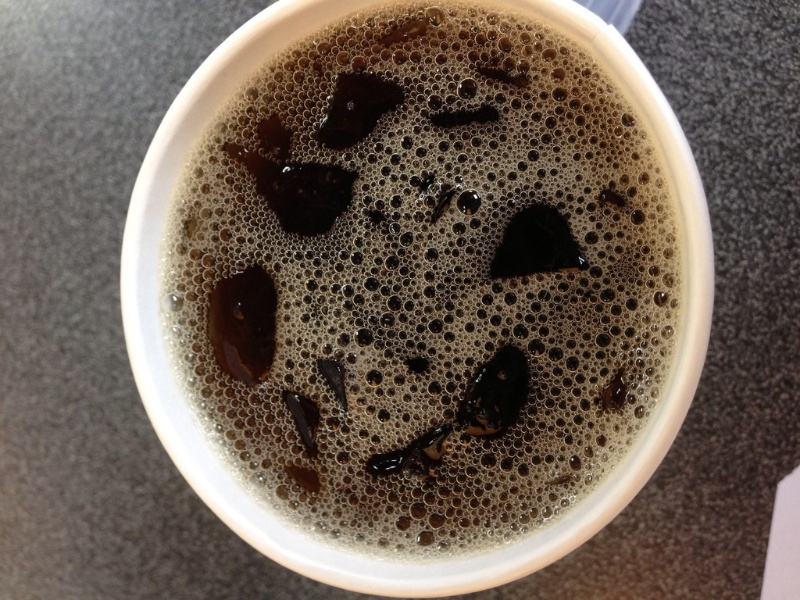cup: (106, 3, 731, 591)
